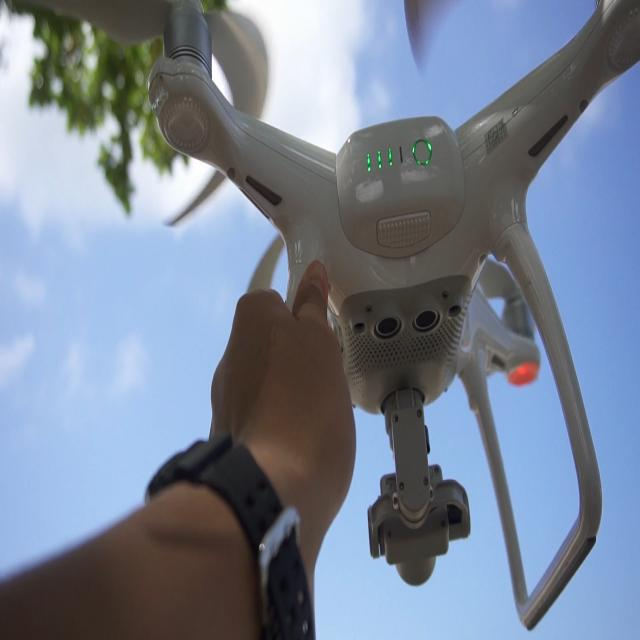Drone: (93, 0, 639, 571)
